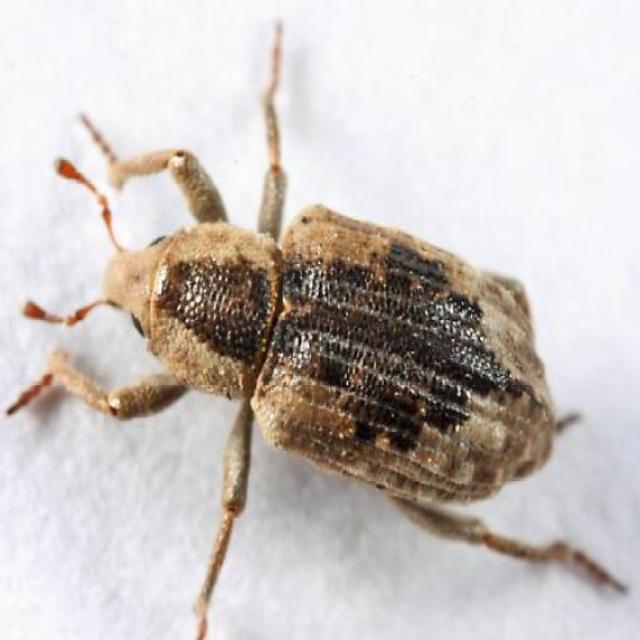ricebug: (8, 23, 625, 640)
